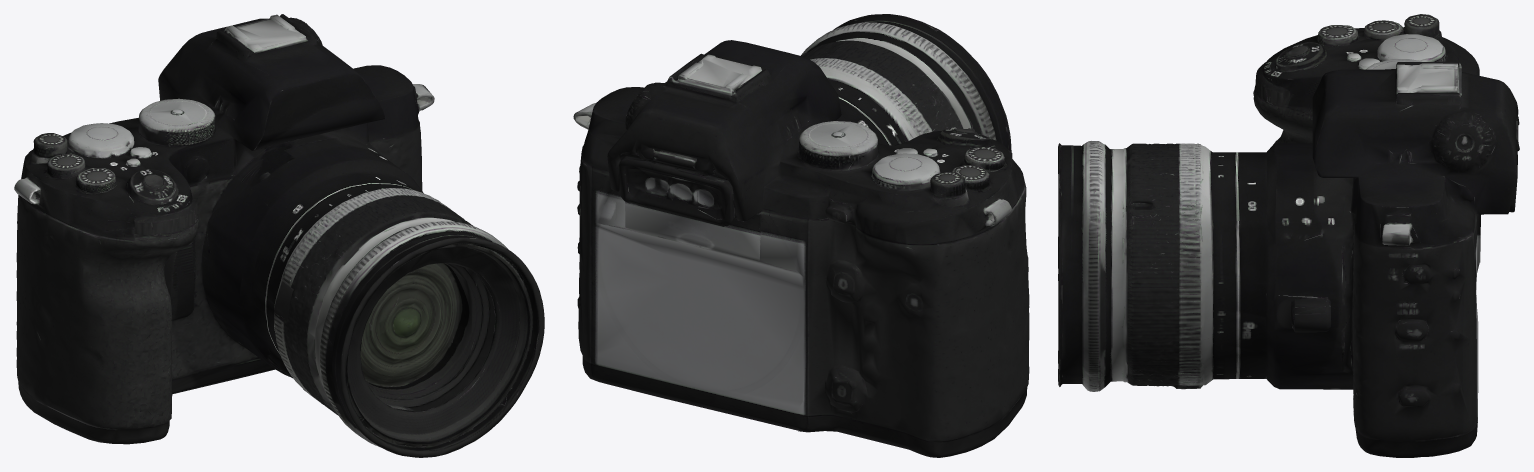
File: modern-camera.glb
3 views of the same model, side by side, from view 1: azimuth 30°, elevation 25°; view 2: azimuth 150°, elevation 25°; view 3: azimuth 270°, elevation 25° (orthographic). The views are drawn at different scales.
Parts seen in each view (by area): view 1: Mesh_0; view 2: Mesh_0; view 3: Mesh_0.
Boxes of the visible parts, <box> form: Mesh_0: <box>14,14,544,457</box>; Mesh_0: <box>573,14,1029,457</box>; Mesh_0: <box>1058,14,1519,457</box>.
Size of the model in its own units: 1.91 by 1.38 by 1.8.
Materials: 1 (1 with a texture image).
